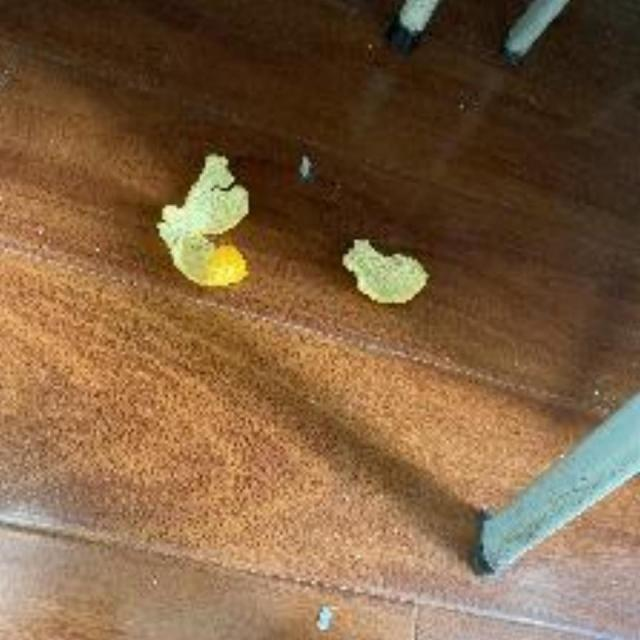orange-peel: (160, 150, 260, 291), (334, 230, 434, 311)
